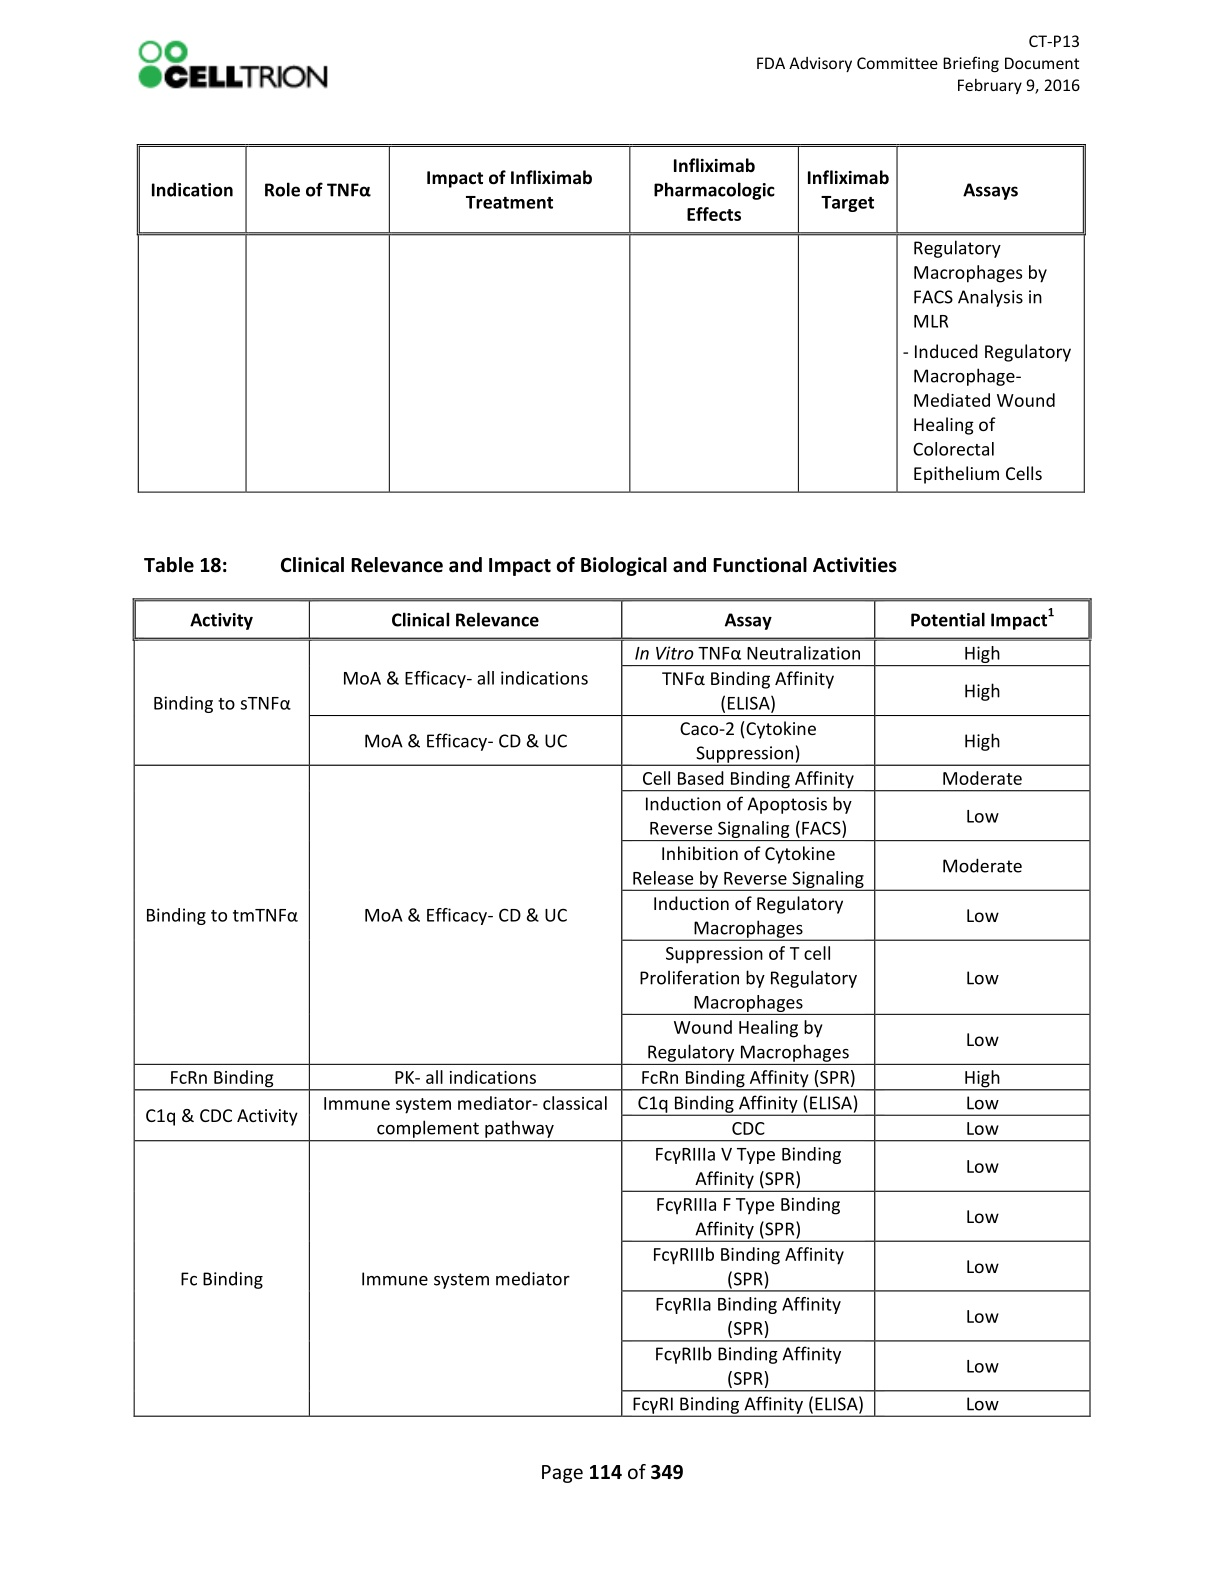full_lined: (136, 143, 1086, 494)
merged_cells: (132, 597, 1092, 1418)
